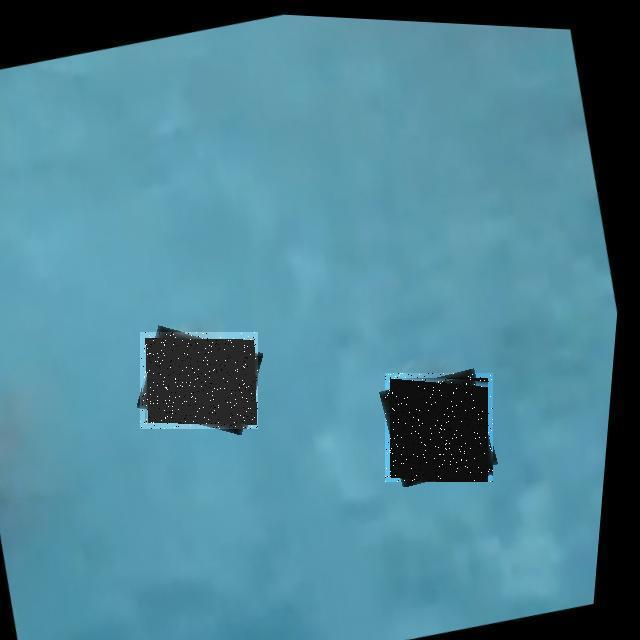swimming: (385, 373, 493, 482), (140, 332, 258, 429)
